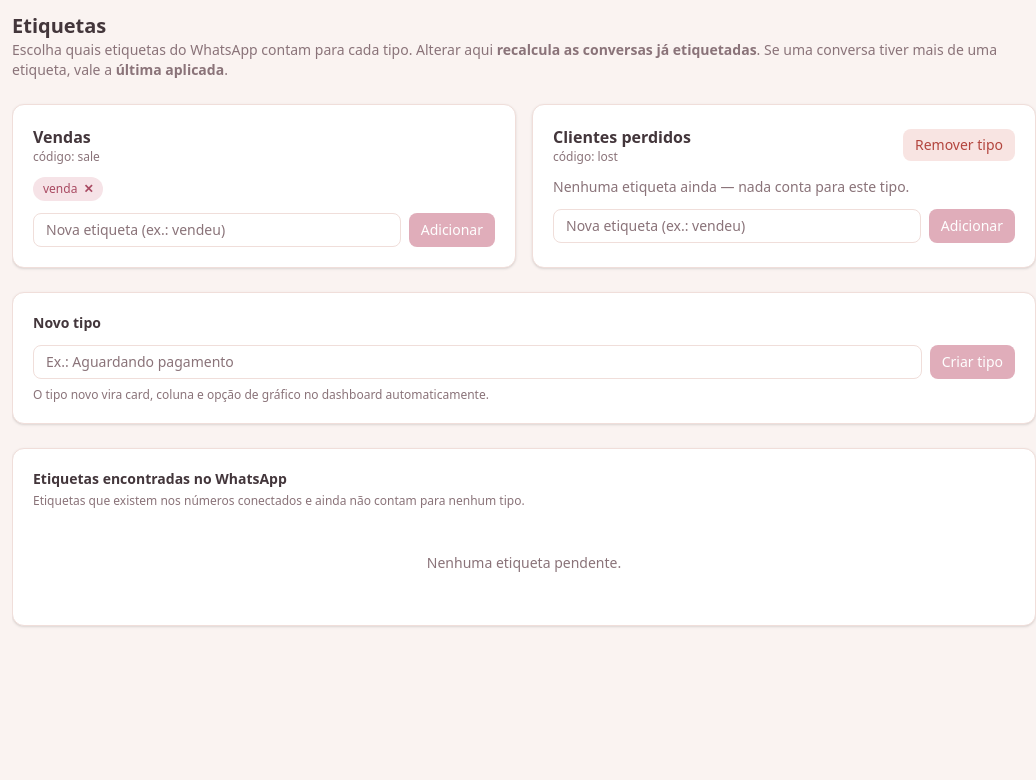
Test: LabelsPage › mostra erro de etiqueta duplicada
The width and height of the screenshot is (1036, 780).
Step 1. Type "venda" into the field named "Nova etiqueta para Clientes perdidos" → (737, 226), box [553,209,921,243]
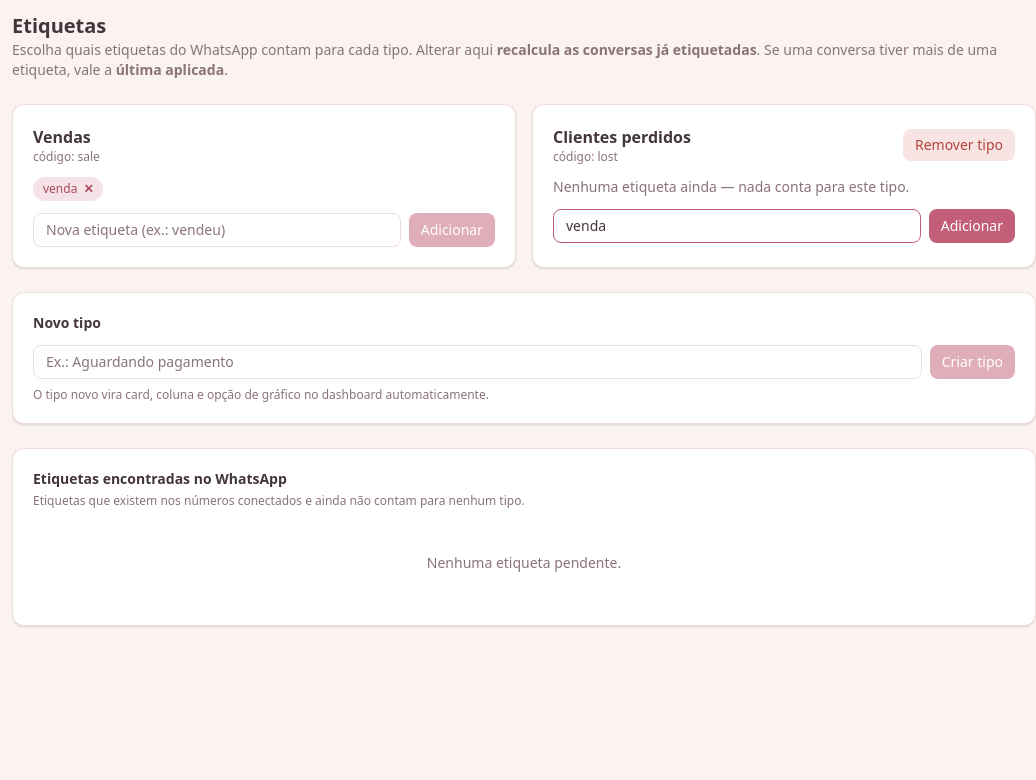
Step 2. Click the button "Adicionar" below "Clientes perdidos" → (972, 226), box [929,209,1015,243]
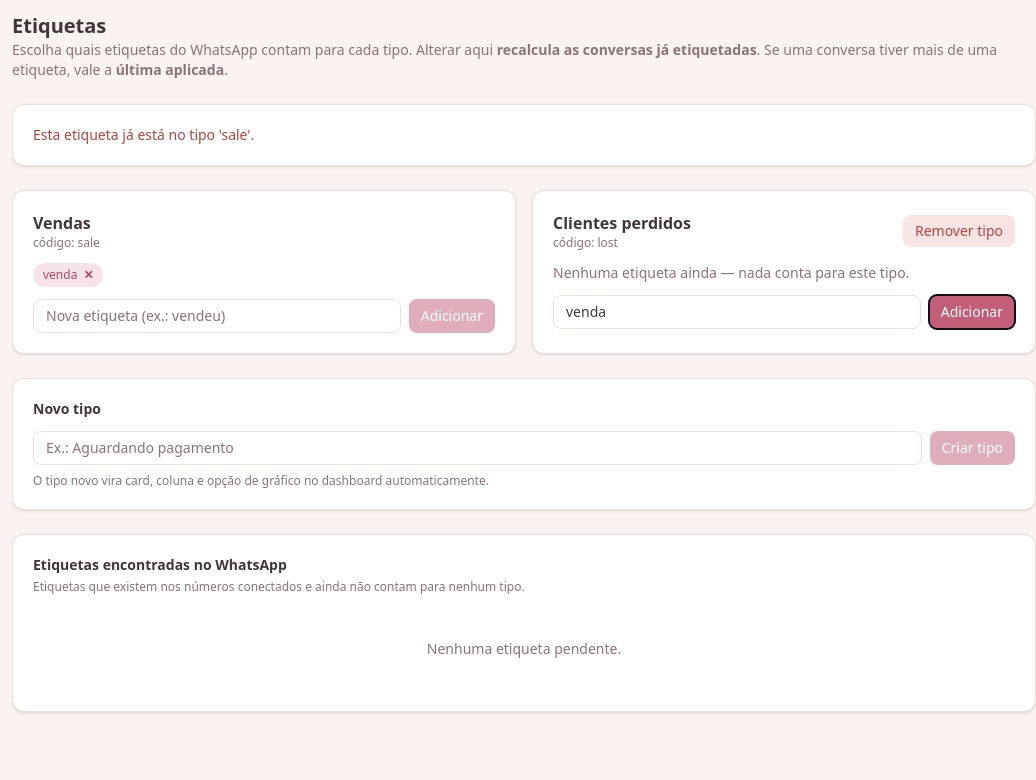
Expected: the text "Esta etiqueta já está no tipo 'sale'." is shown, [33,125,254,144]
